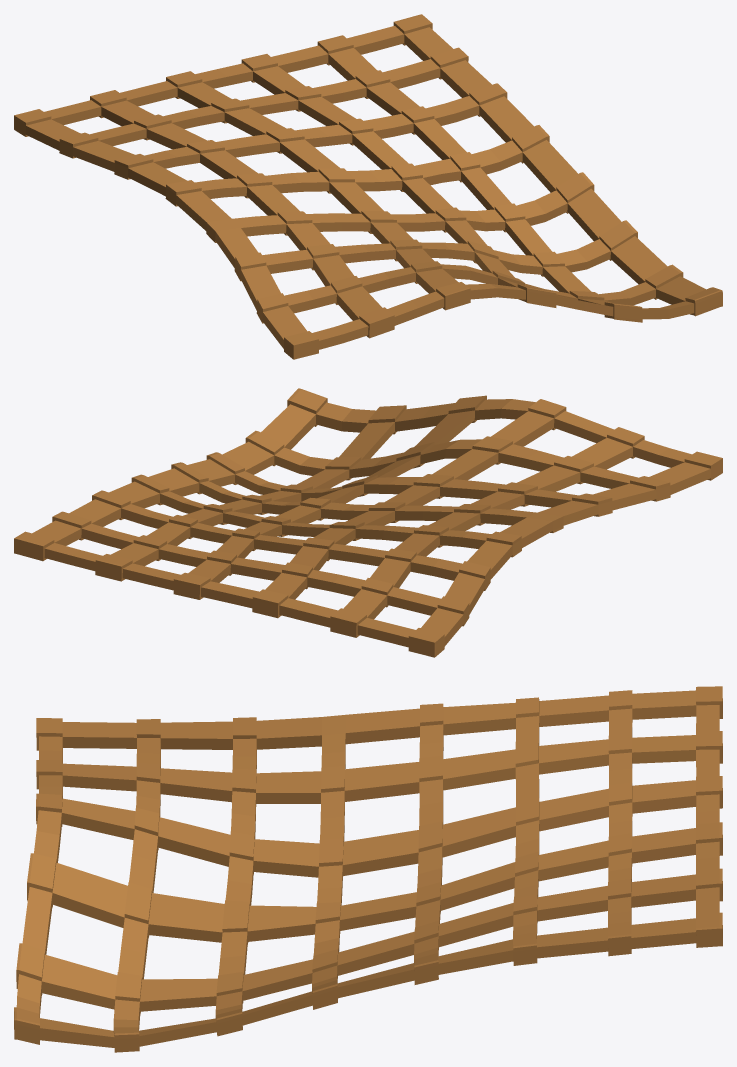
File: F_FishingNet.fbx
The picture shows the model from 3 angles, top to bottom: view 1: azimuth 30°, elevation 25°; view 2: azimuth 150°, elevation 25°; view 3: azimuth 270°, elevation 25°; orthographic projection. The views are drawn at different scales.
Visible parts, largest first — view 1: F_FishingNet; view 2: F_FishingNet; view 3: F_FishingNet.
Boxes of the visible parts, x1,y1,x2,y2 form: F_FishingNet: [14, 14, 722, 359]; F_FishingNet: [14, 388, 722, 657]; F_FishingNet: [14, 686, 722, 1052].
Size of the model in its own units: 156 by 37.2 by 185.
